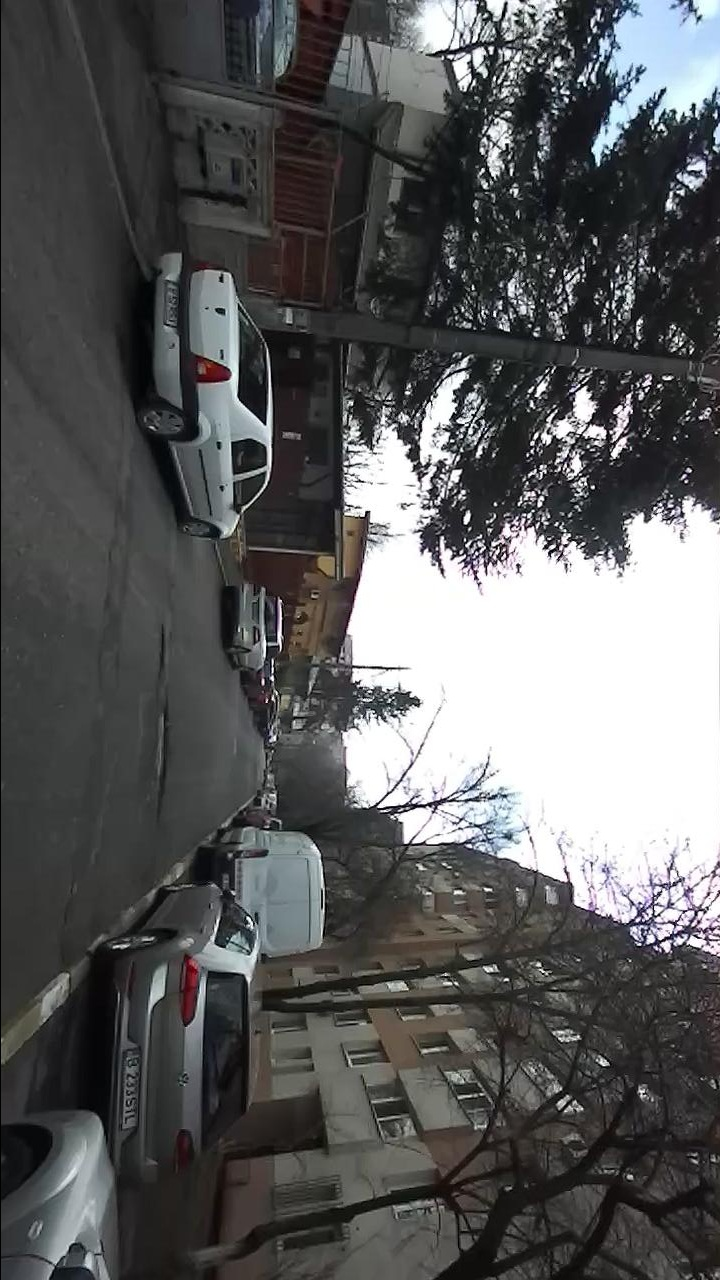pothole: (149, 699, 171, 829), (155, 620, 168, 683)
